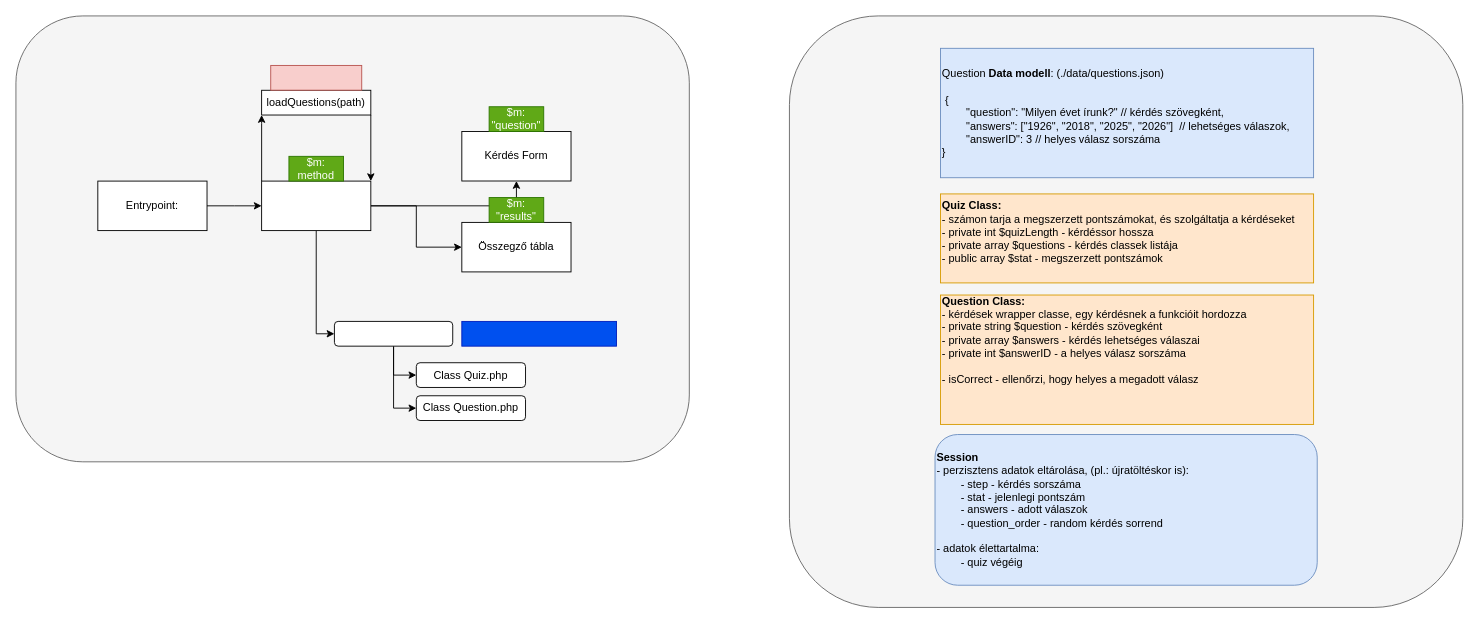
This 1479x623 diagram has some shape labels left out. Here are the shapes that lost their labels. From the top down, the centre of each, then its label:
(316,77): questions.json
(316,205): index.php
(393,333): QuizController.php
(539,333): Post REQ. Handler, "next, back, send, reset"
